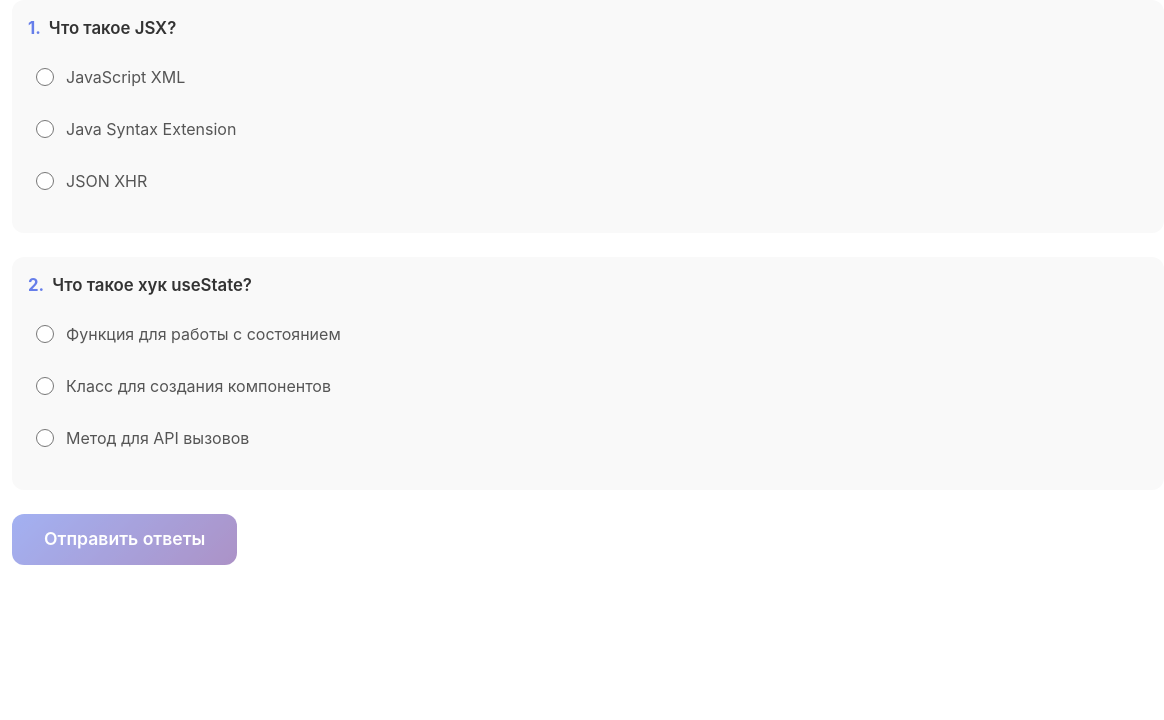
Test: QuizRunner › should calculate and display score after submission
The image size is (1164, 720).
Click the radio button labelled "JavaScript XML": (45, 77) x1=36 y1=68 x2=54 y2=86
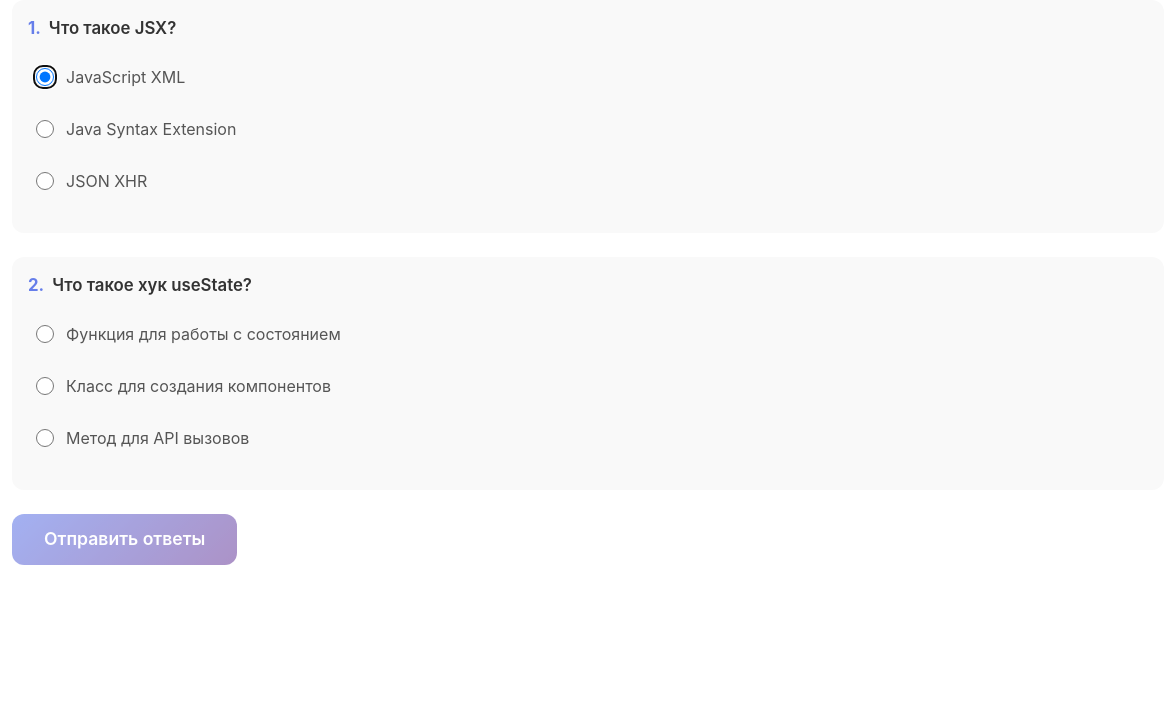
Click the radio button labelled "Функция для работы с состоянием": (45, 334) x1=36 y1=325 x2=54 y2=343
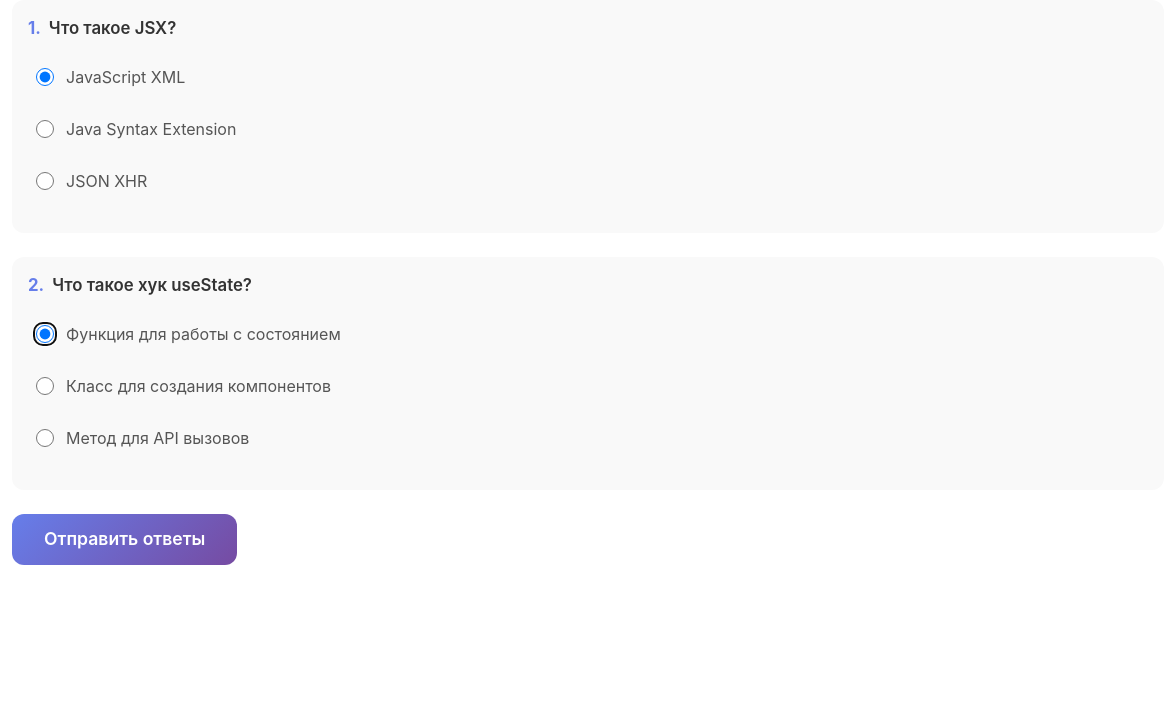
Click the button "Отправить ответы": (125, 540) x1=12 y1=514 x2=237 y2=565
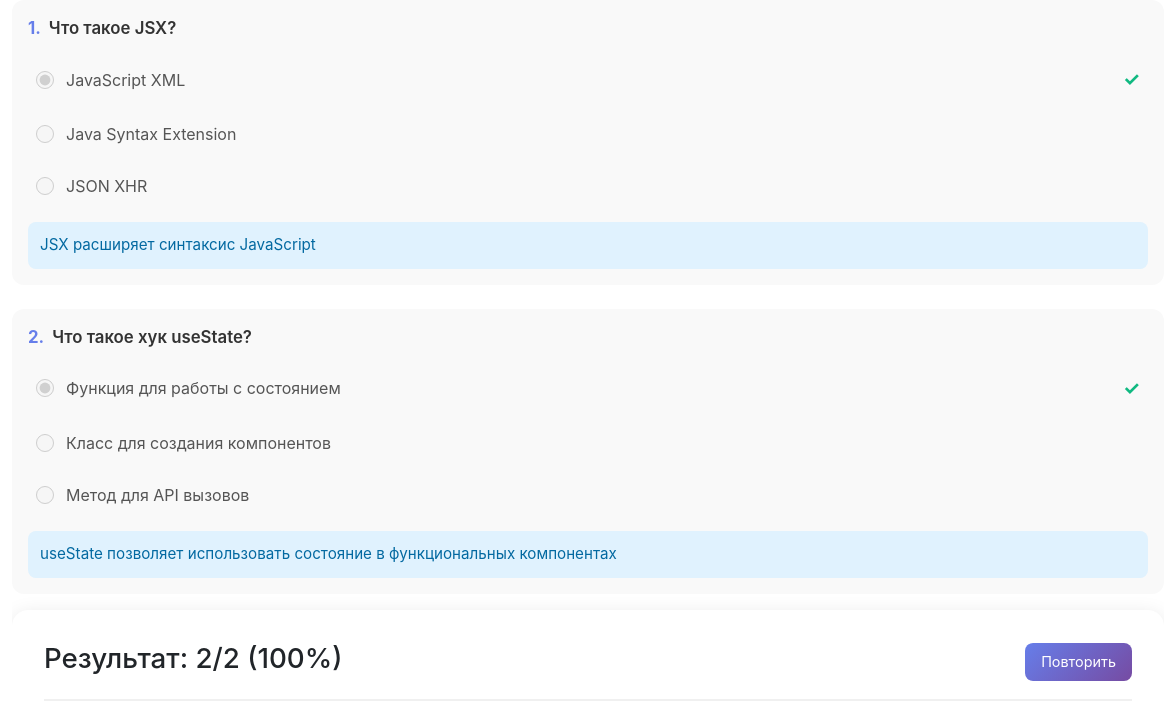
Expected: the heading "Результат: 2/2 (100%)" is shown, x1=44 y1=642 x2=342 y2=675
Expected: the button "Повторить" is shown, x1=1025 y1=643 x2=1132 y2=681
